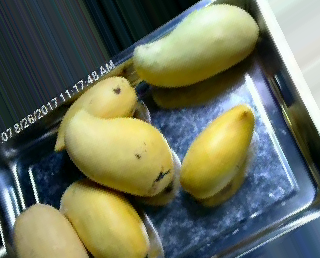Mango: (133, 2, 260, 89), (61, 109, 178, 197), (52, 72, 138, 157), (58, 178, 151, 256), (180, 104, 254, 202), (10, 198, 83, 257)
